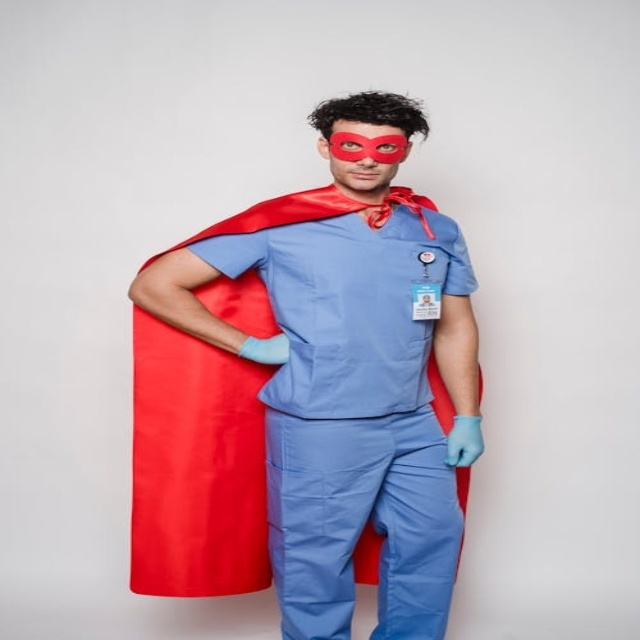Guantes: (442, 414, 484, 468), (237, 333, 289, 365)
Sin_mascara: (347, 166, 383, 189)
